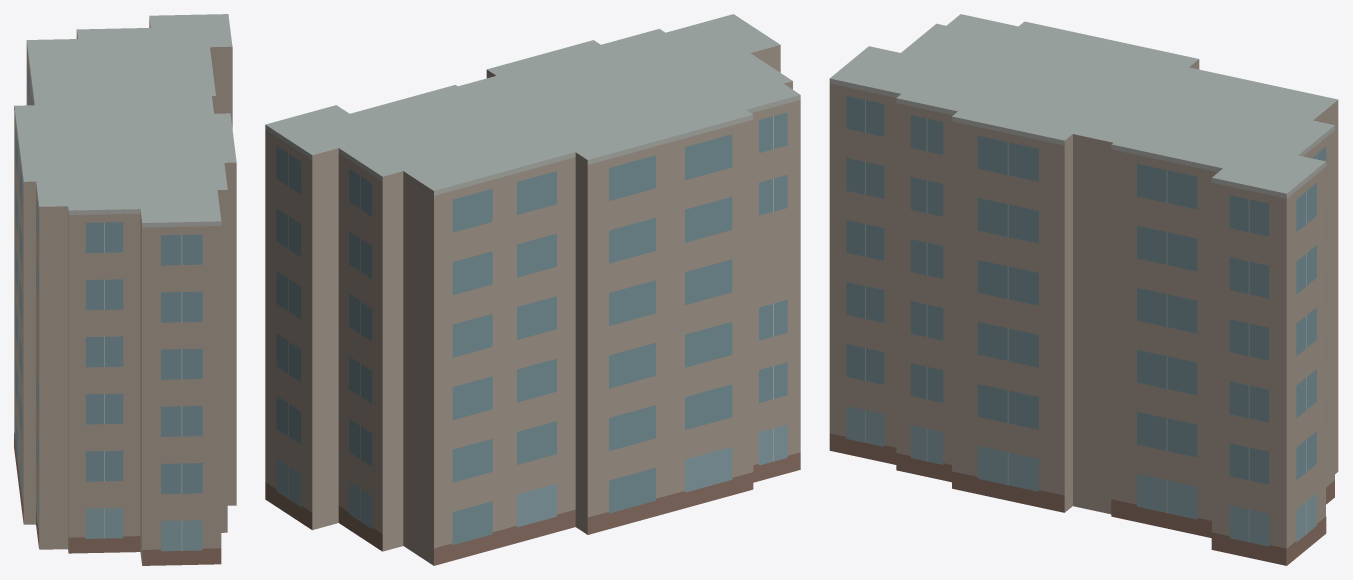
File: survey-upis-32630302.glb
3 renders of one model, left to right at view 1: azimuth 30°, elevation 25°; view 2: azimuth 150°, elevation 25°; view 3: azimuth 270°, elevation 25°, orthographic. The views are drawn at different scales.
Parts seen in each view (by area): view 1: survey-upis-32630302.tmp; view 2: survey-upis-32630302.tmp; view 3: survey-upis-32630302.tmp.
Part boxes in pixels (x1=…): survey-upis-32630302.tmp: x1=14, y1=14, x2=236, y2=565; survey-upis-32630302.tmp: x1=265, y1=14, x2=800, y2=565; survey-upis-32630302.tmp: x1=829, y1=14, x2=1338, y2=565.
Bounding box in the file's own units: 19.07 × 18.4 × 22.81.
